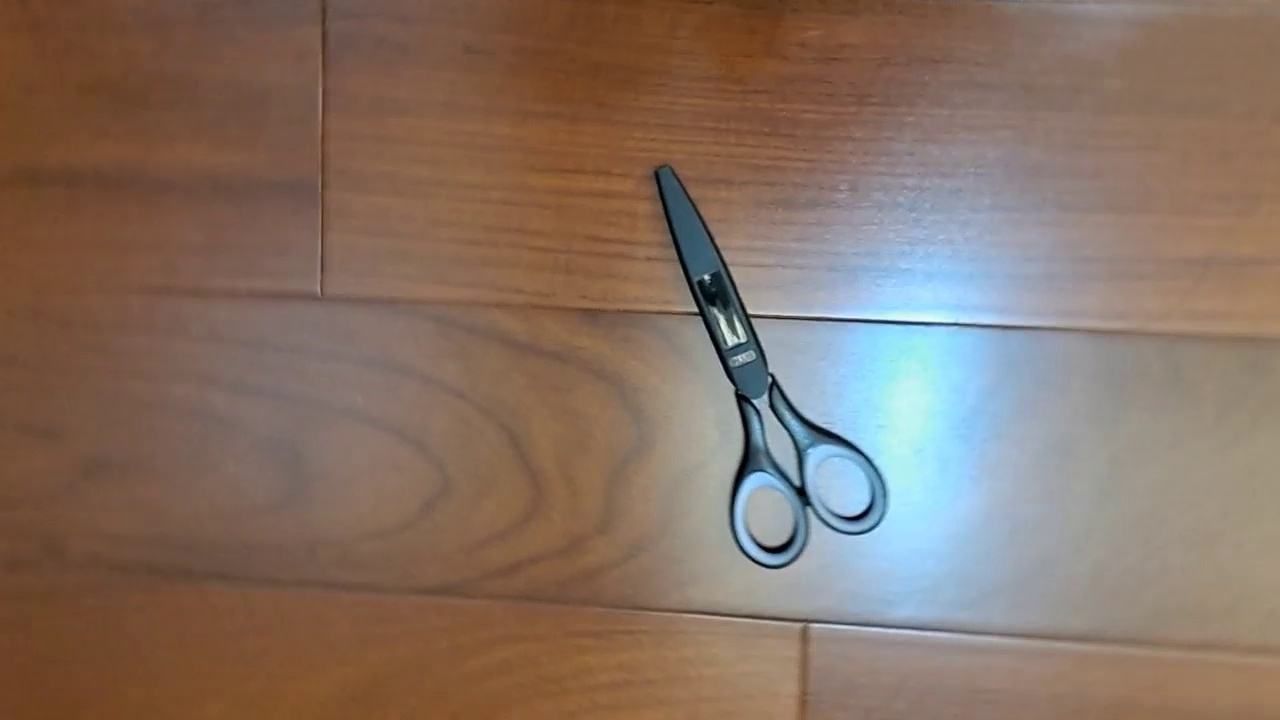scissors: (652, 163, 888, 570)
